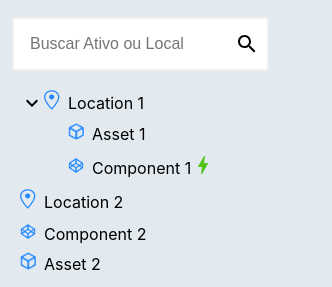
Test: TreeComponent › filters tree nodes based on search term
The width and height of the screenshot is (332, 287).
Type "Component" into the field with placeholder "Buscar Ativo ou Local". click: coordinates (140, 44)
box: [12,17,269,71]
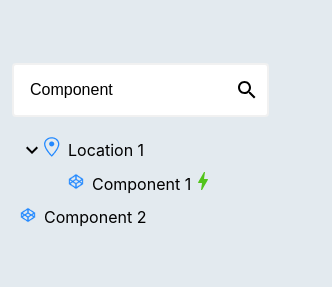
Expected: the text "Component 1" is shown, [68,169,215,199]
Expected: the text "Asset 1" is gone
Clear the field with placeholder "Buscar Ativo ou Local". click: coordinates (140, 90)
box: [12,63,269,117]
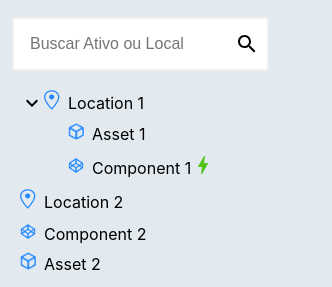
Expected: the text "Location 1" is shown, [20,90,144,116]
Expected: the text "Asset 1" is shown, [68,122,146,146]
